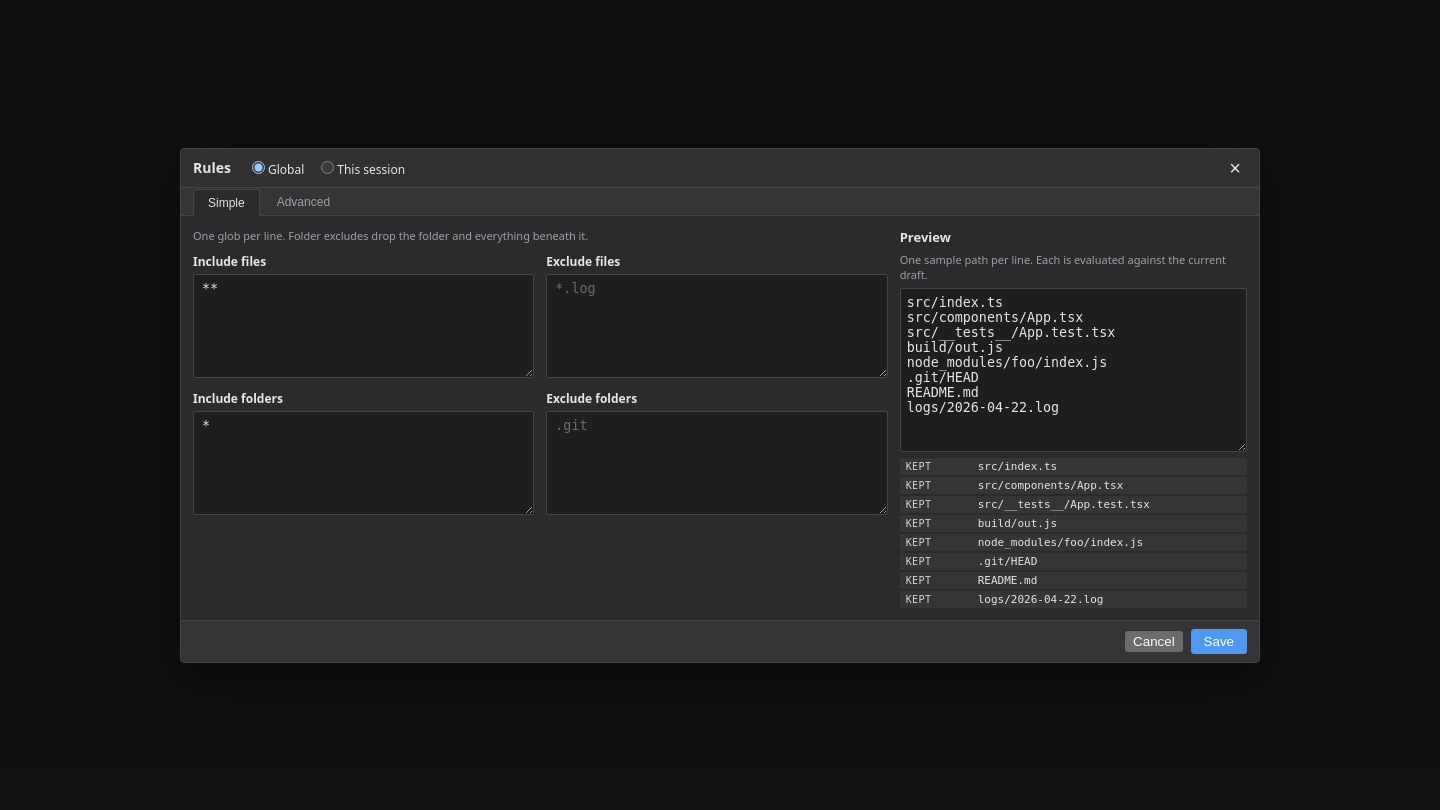
Test: <RulesEditor /> › renders an empty-state hint when there are no rules
Step 1. Click the tab "Advanced" → (303, 201), box [262,188,345,214]
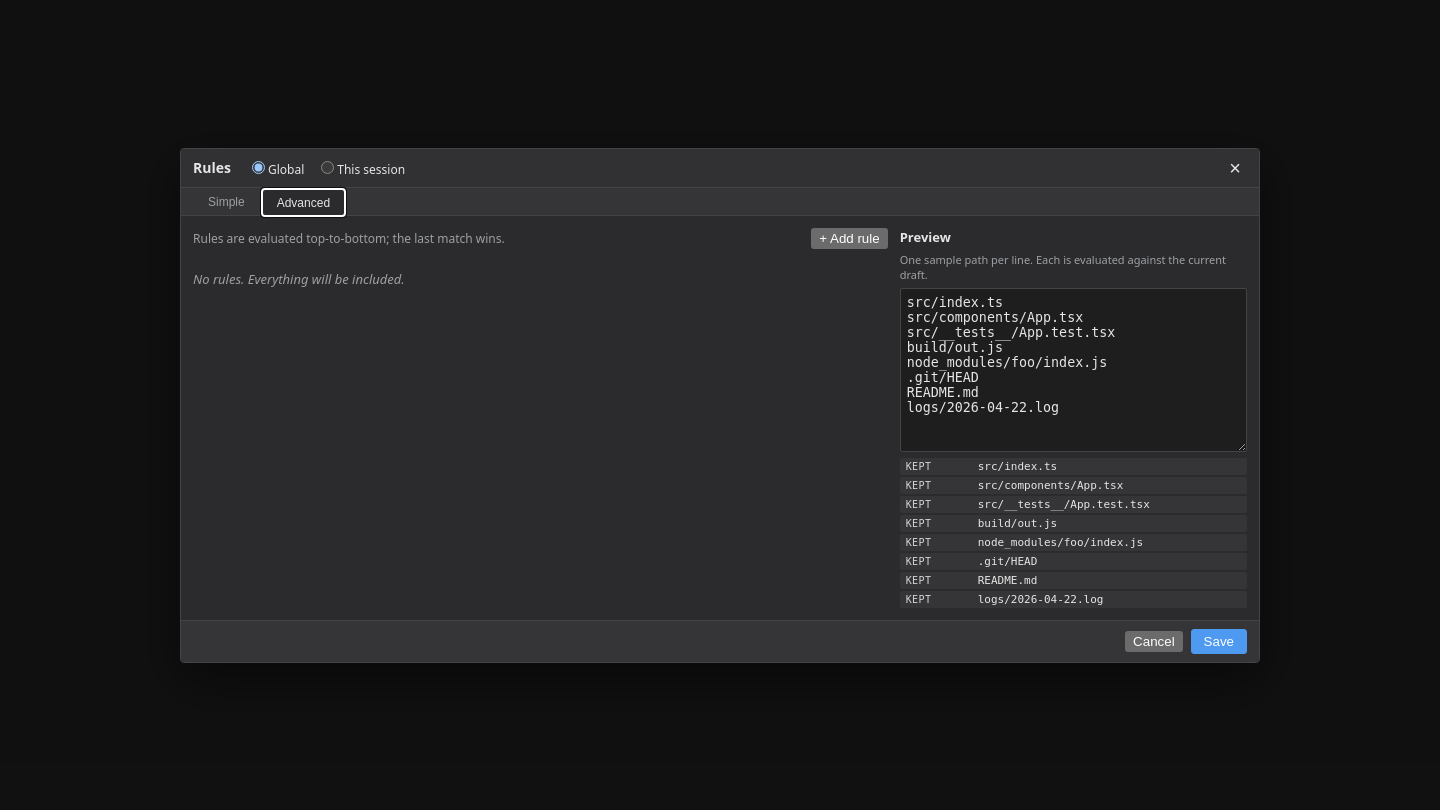
Now the text "No rules. Everything will be included." is shown, box [193,270,405,288]
